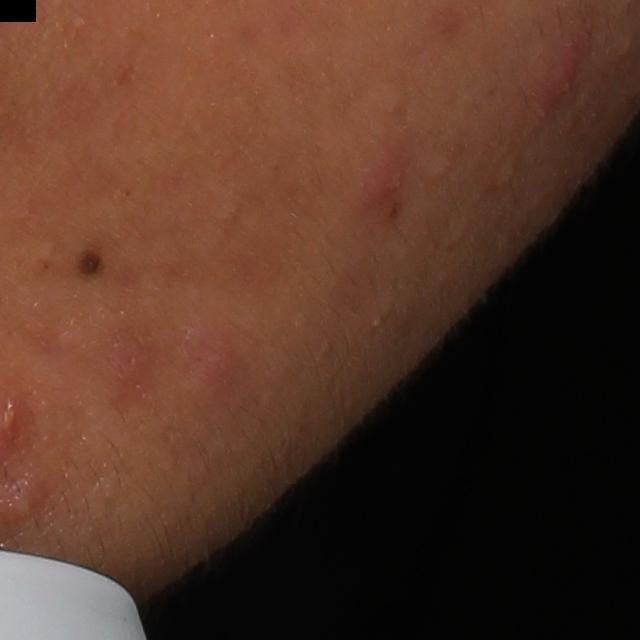nevus: (72, 247, 104, 281)
papule: (177, 318, 242, 397), (361, 153, 414, 212)
